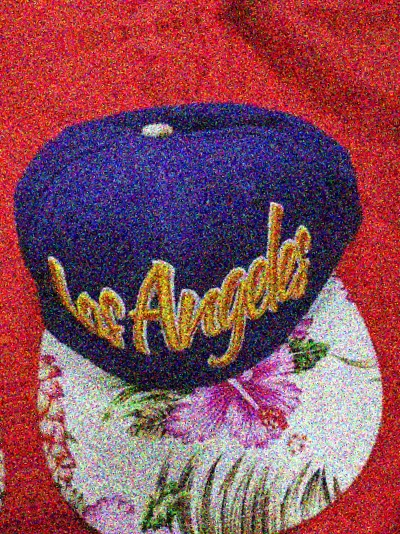Hat: (0, 50, 400, 534), (0, 120, 34, 534), (0, 0, 340, 4)
